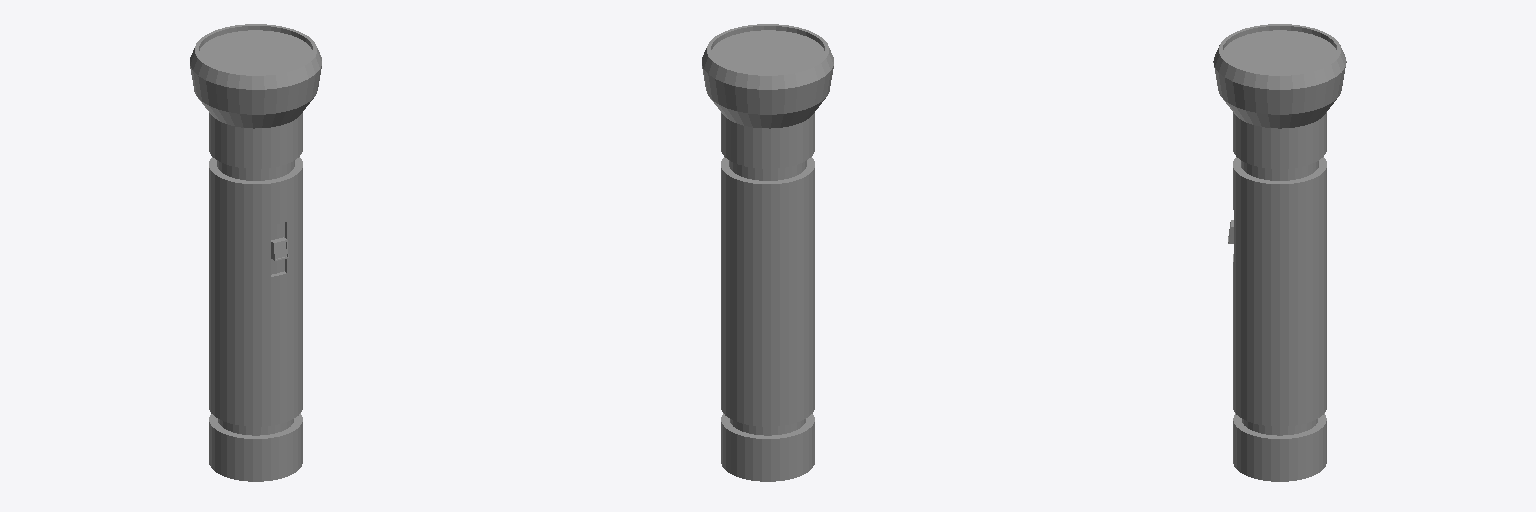
File: Linterna.obj
The picture shows the model from 3 angles: view 1: azimuth 30°, elevation 25°; view 2: azimuth 150°, elevation 25°; view 3: azimuth 270°, elevation 25°; orthographic projection.
Parts seen in each view (by area): view 1: Cilindro; view 2: Cilindro; view 3: Cilindro.
Boxes of the visible parts, <box> form: Cilindro: <box>190,24,321,481</box>; Cilindro: <box>702,24,833,481</box>; Cilindro: <box>1213,24,1346,481</box>.
Size of the model in its own units: 2.84 by 9.69 by 2.84.